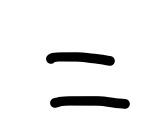eqv: (47, 52, 130, 109)
